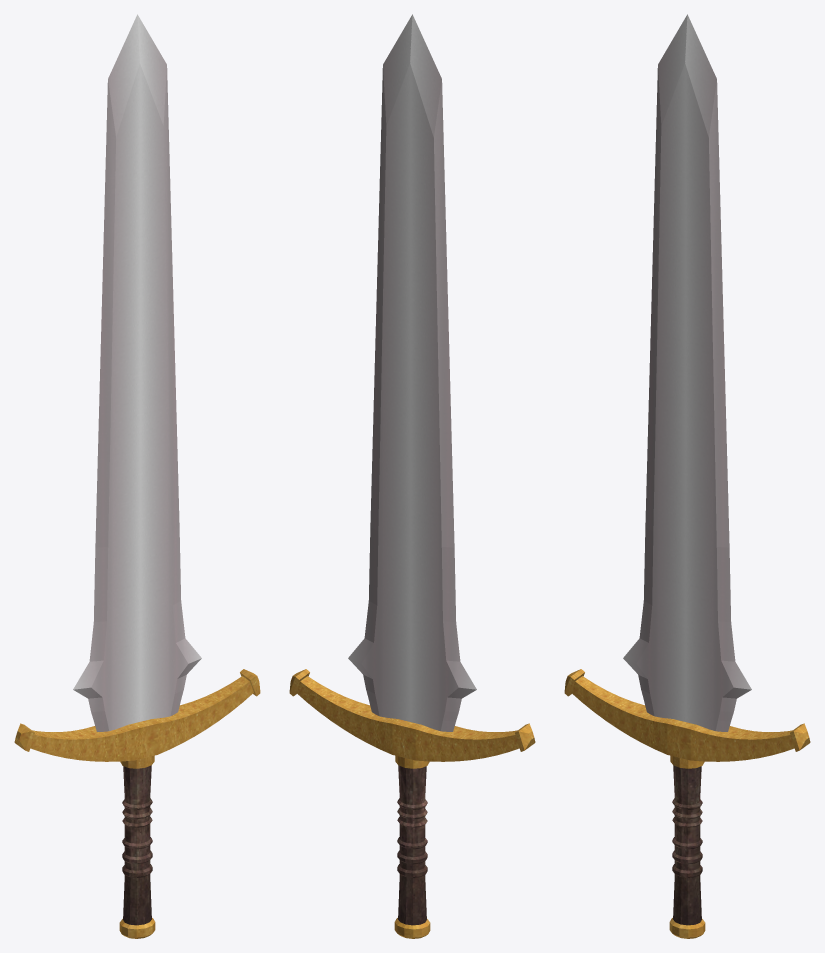
Rendered from sg-sword-8-textured-poor.obj.
3 views of the same model, side by side, from view 1: azimuth 30°, elevation 25°; view 2: azimuth 150°, elevation 25°; view 3: azimuth 330°, elevation 25° (orthographic).
Visible parts, largest first — view 1: Cylinder; view 2: Cylinder; view 3: Cylinder.
Boxes of the visible parts, x1,y1,x2,y2 form: Cylinder: [14, 14, 260, 938]; Cylinder: [289, 14, 535, 938]; Cylinder: [564, 14, 810, 938].
Bounding box in the file's own units: 1036 × 3789 × 129.
1 material, 1 textured.
